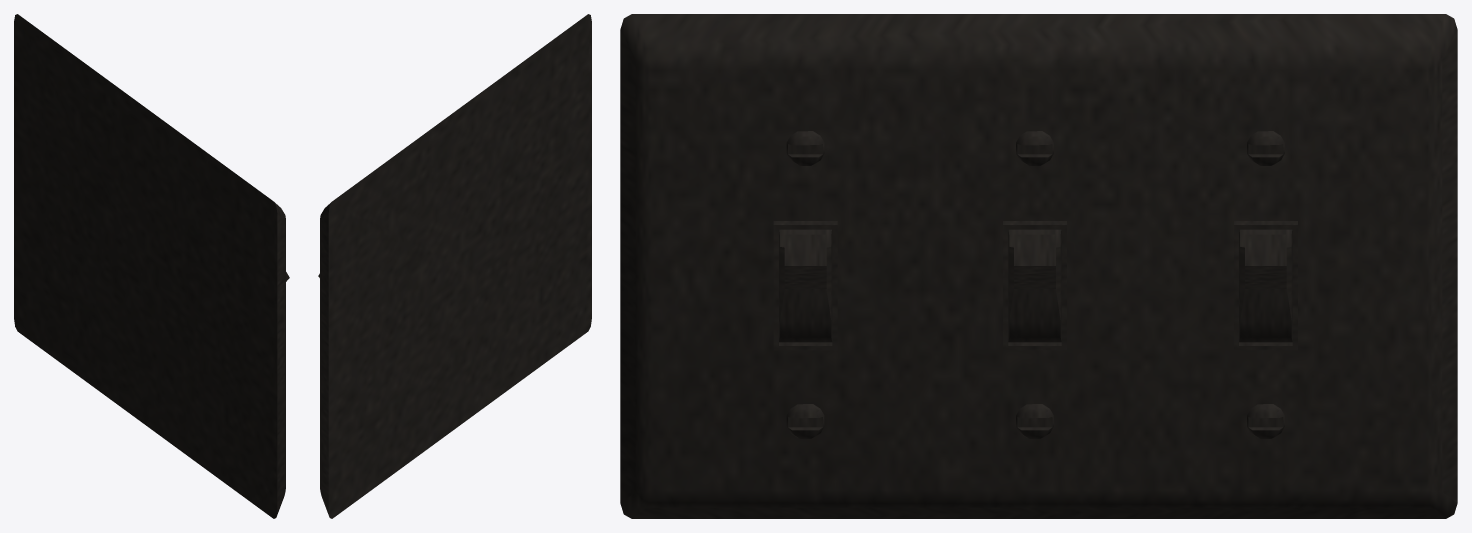
The model's file is Switch Black Tri.fbx.
3 views of the same model, side by side, from view 1: azimuth 30°, elevation 25°; view 2: azimuth 150°, elevation 25°; view 3: azimuth 270°, elevation 25° (orthographic). The views are drawn at different scales.
Parts seen in each view (by area): view 1: Switch Black Tri; view 2: Switch Black Tri; view 3: Switch Black Tri.
Part boxes in pixels (x1,y1,x2,y2): Switch Black Tri: [14, 14, 289, 518]; Switch Black Tri: [318, 14, 591, 518]; Switch Black Tri: [620, 14, 1457, 518].
Size of the model in its own units: 3.37 by 15.93 by 23.94.
